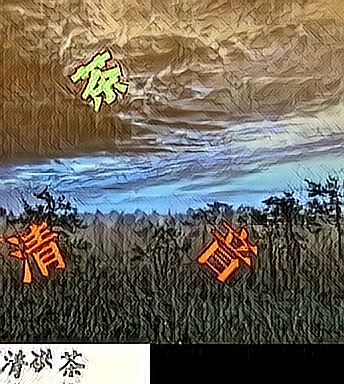B2E8: (68, 49, 130, 113)
C7E5: (5, 221, 67, 285)
D2F4: (192, 217, 254, 281)
